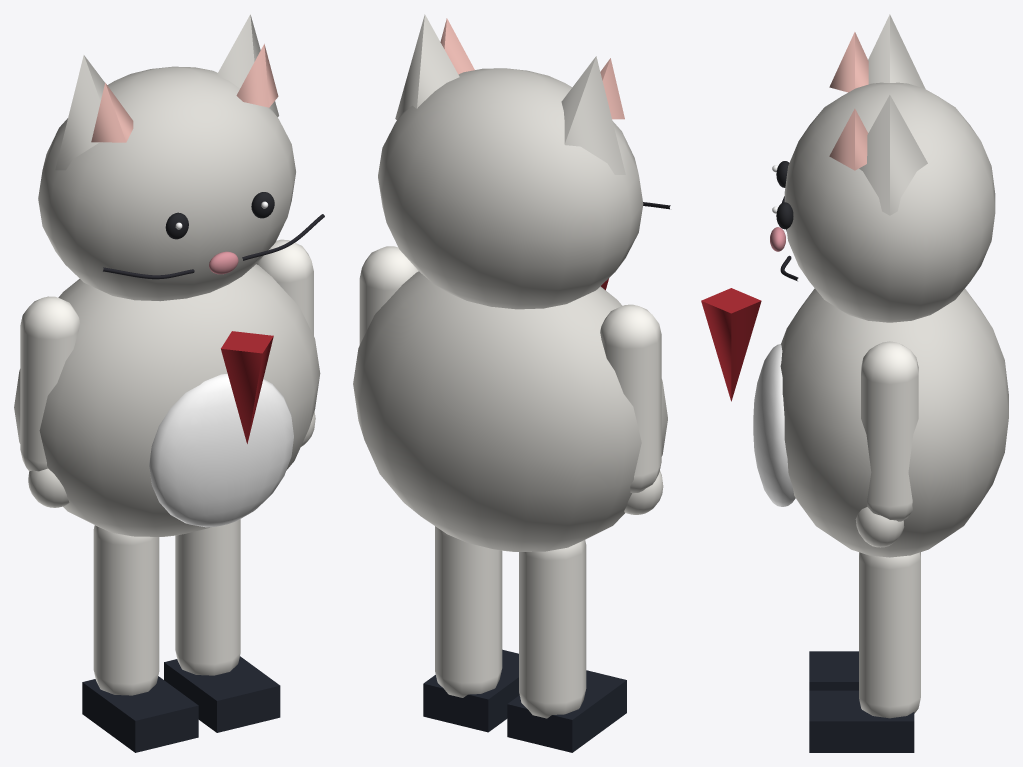
Rendered from profile-calvin.glb.
3 views of the same model, side by side, from view 1: azimuth 30°, elevation 25°; view 2: azimuth 150°, elevation 25°; view 3: azimuth 270°, elevation 25° (orthographic). The views are drawn at different scales.
Parts seen in each view (by area): view 1: creature-head, round-body, belly, left-leg-mesh, right-leg-mesh, left-sleeve, left-shoe, right-shoe, cat-ear (×2), red-tie, inner-ear (×2), right-sleeve (+2 smaller); view 2: round-body, creature-head, left-leg-mesh, right-leg-mesh, left-sleeve, cat-ear (×2), left-shoe, right-shoe, right-sleeve, inner-ear (×2), left-hand-mesh; view 3: round-body, creature-head, right-leg-mesh, right-sleeve, cat-ear (×2), right-shoe, belly, red-tie, inner-ear (×2), left-shoe, right-hand-mesh.
Boxes of the visible parts, <box> form: creature-head: <box>38,66,295,301</box>; round-body: <box>14,264,320,536</box>; belly: <box>149,374,293,527</box>; left-leg-mesh: <box>93,525,159,695</box>; right-leg-mesh: <box>175,519,240,675</box>; left-sleeve: <box>20,296,79,471</box>; left-shoe: <box>82,676,198,752</box>; right-shoe: <box>164,656,280,732</box>; cat-ear (×2): <box>55,14,278,170</box>; red-tie: <box>221,331,273,443</box>; inner-ear (×2): <box>91,44,278,142</box>; right-sleeve: <box>256,239,313,335</box>; round-body: <box>353,271,667,551</box>; creature-head: <box>378,68,643,309</box>; left-leg-mesh: <box>519,540,586,718</box>; right-leg-mesh: <box>435,526,502,697</box>; left-sleeve: <box>600,304,661,493</box>; cat-ear (×2): <box>395,14,625,174</box>; left-shoe: <box>507,670,626,752</box>; right-shoe: <box>423,649,519,732</box>; right-sleeve: <box>359,246,418,344</box>; inner-ear (×2): <box>440,18,624,119</box>; left-hand-mesh: <box>624,471,663,514</box>; round-body: <box>780,288,1008,557</box>; creature-head: <box>784,82,995,322</box>; right-leg-mesh: <box>859,552,920,718</box>; right-sleeve: <box>861,341,918,521</box>; cat-ear (×2): <box>859,14,927,215</box>; right-shoe: <box>809,690,914,752</box>; belly: <box>753,344,795,506</box>; red-tie: <box>701,288,761,401</box>; inner-ear (×2): <box>829,32,868,170</box>; left-shoe: <box>809,651,858,690</box>; right-hand-mesh: <box>855,507,904,547</box>.
Size of the model in its own units: 1.4 by 3.14 by 1.32.
